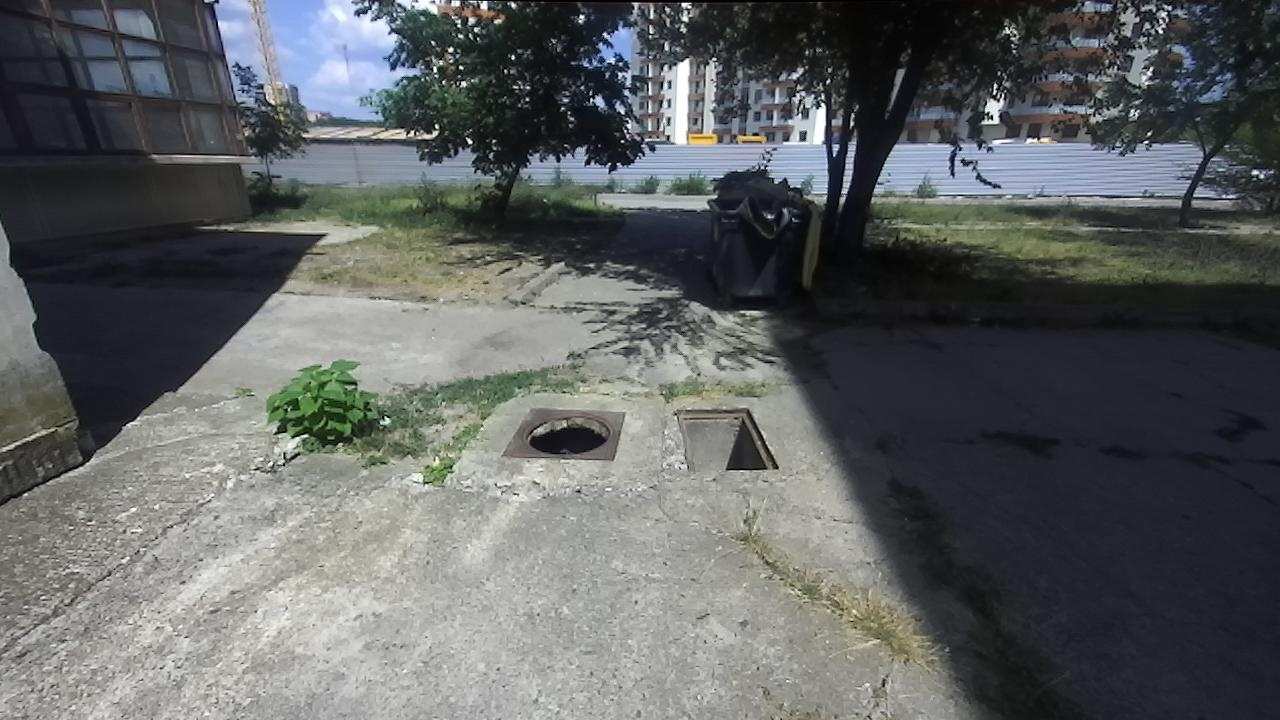drain: (672, 405, 785, 475), (520, 409, 615, 455)
